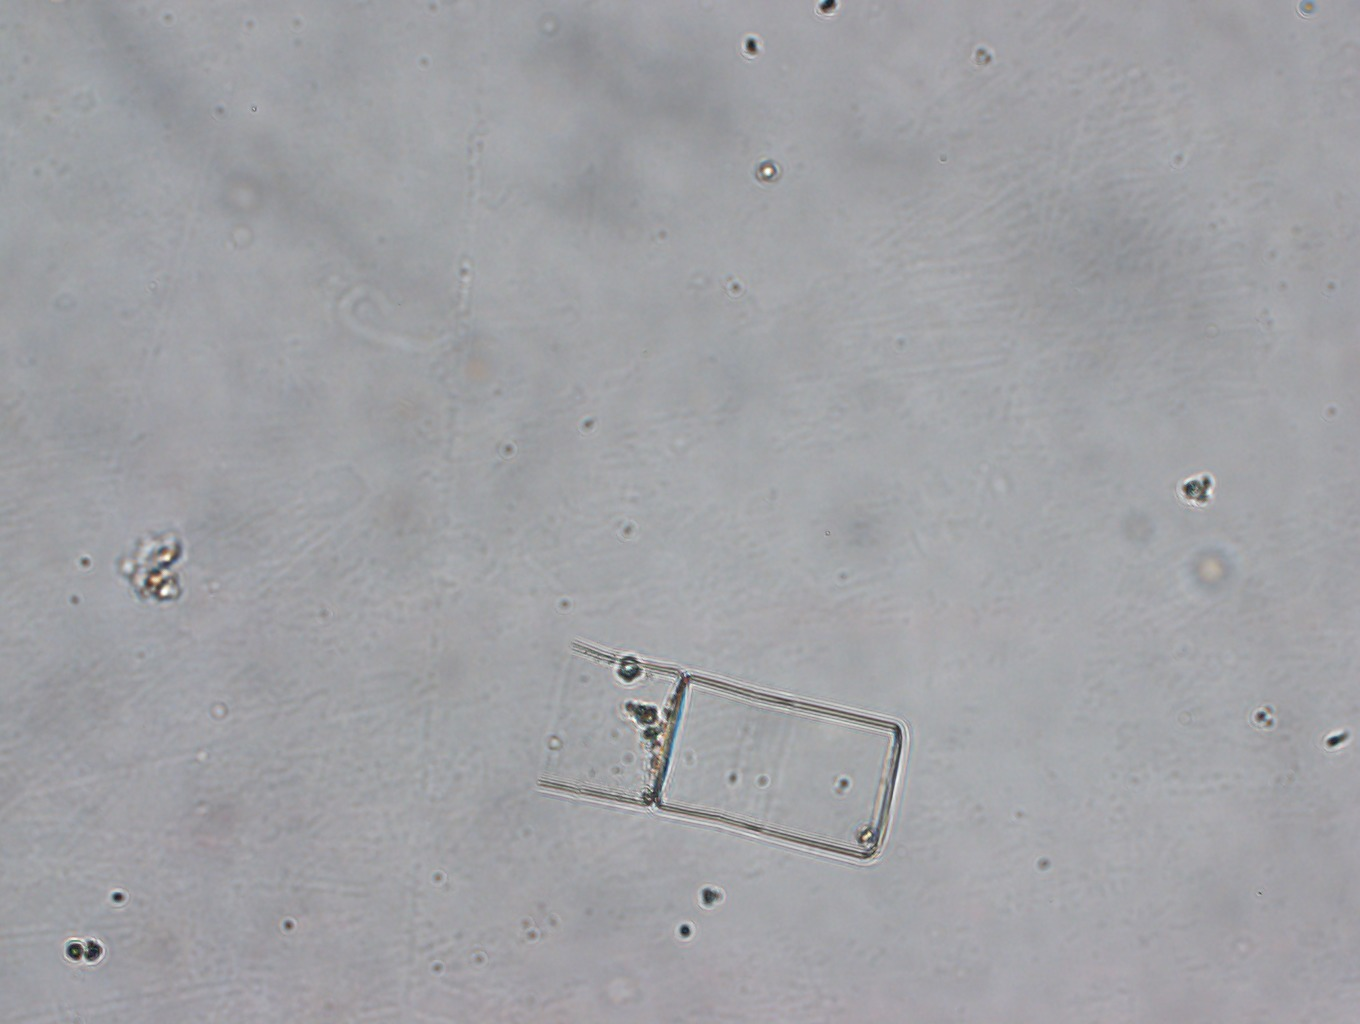guinardia flaccida: (539, 639, 907, 861)
